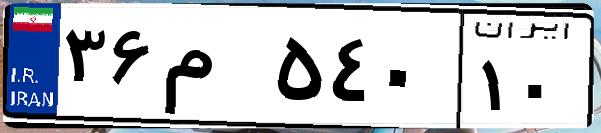0: (385, 28, 445, 110), (525, 38, 570, 115)
1: (475, 38, 525, 113)
3: (57, 26, 110, 100)
4: (330, 28, 385, 110)
5: (270, 28, 330, 110)
6: (110, 28, 158, 98)
م: (158, 20, 270, 120)
